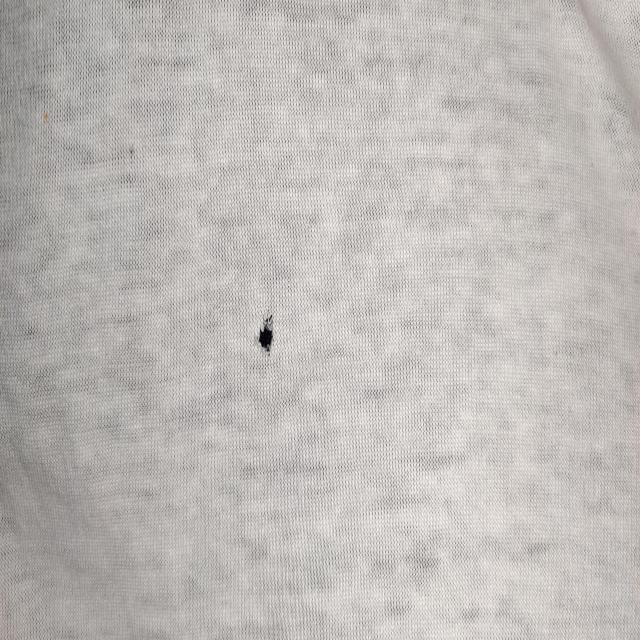Hole: (258, 313, 273, 352)
